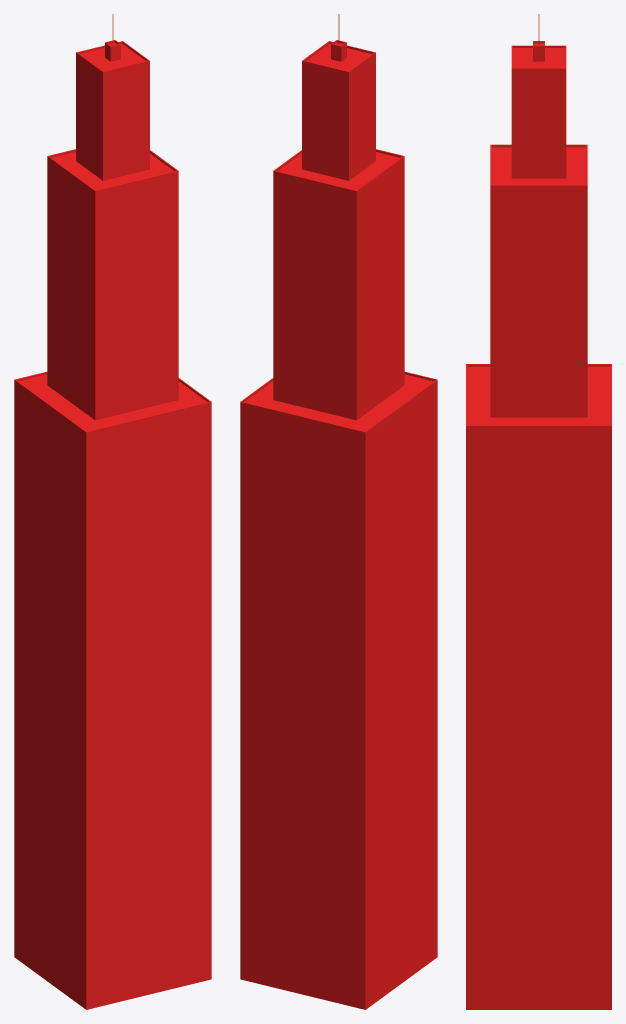
The model's file is Building_03_3.FBX.
The picture shows the model from 3 angles, left to right: view 1: azimuth 30°, elevation 25°; view 2: azimuth 150°, elevation 25°; view 3: azimuth 270°, elevation 25°; orthographic projection.
Visible parts, largest first — view 1: Building_03_3; view 2: Building_03_3; view 3: Building_03_3.
Part boxes in pixels (bbox=[...]): Building_03_3: bbox=[14, 14, 211, 1009]; Building_03_3: bbox=[240, 14, 437, 1009]; Building_03_3: bbox=[466, 14, 611, 1009].
Bounding box in the file's own units: 35947 × 261623 × 35838.
